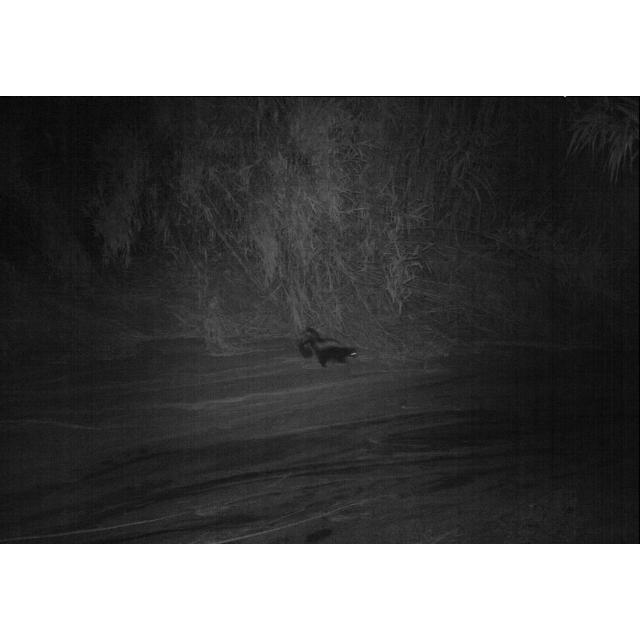animals: (296, 328, 360, 369)
